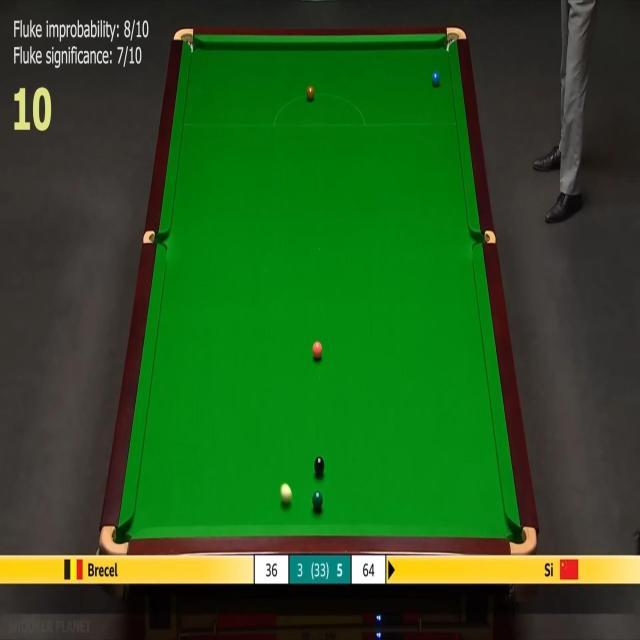Ball: (280, 483, 292, 503), (314, 456, 325, 476), (312, 492, 323, 509), (312, 342, 322, 358), (432, 71, 440, 86), (306, 86, 314, 100)
